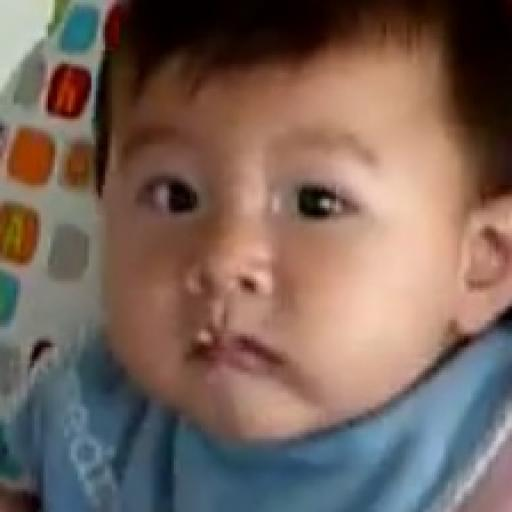Autism: (79, 18, 490, 485)
